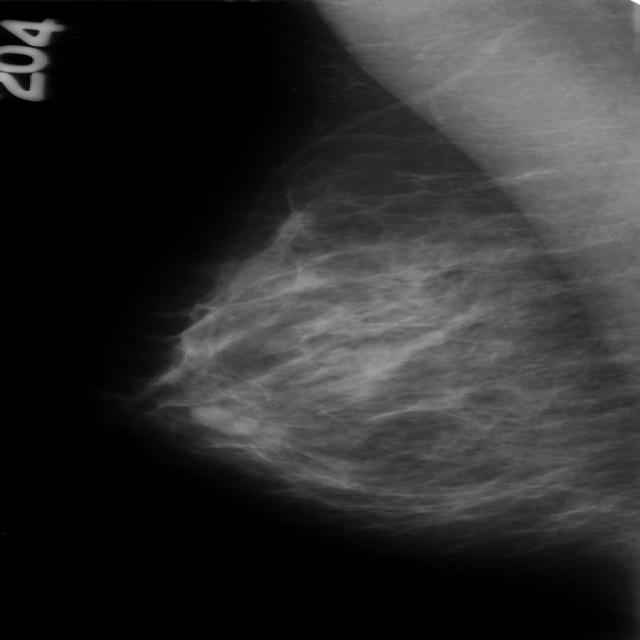tumour: (187, 403, 257, 436)
